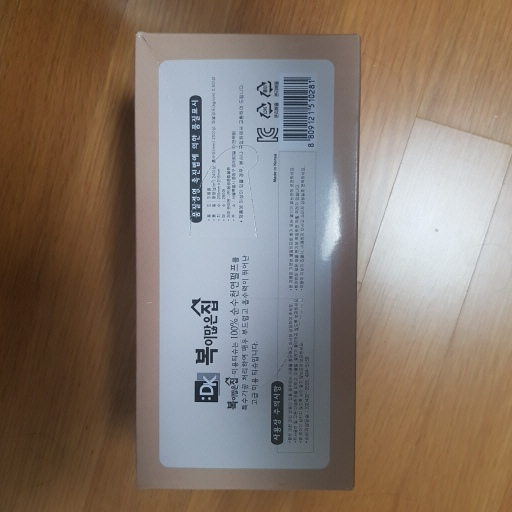Paper_0: (106, 17, 384, 504)
